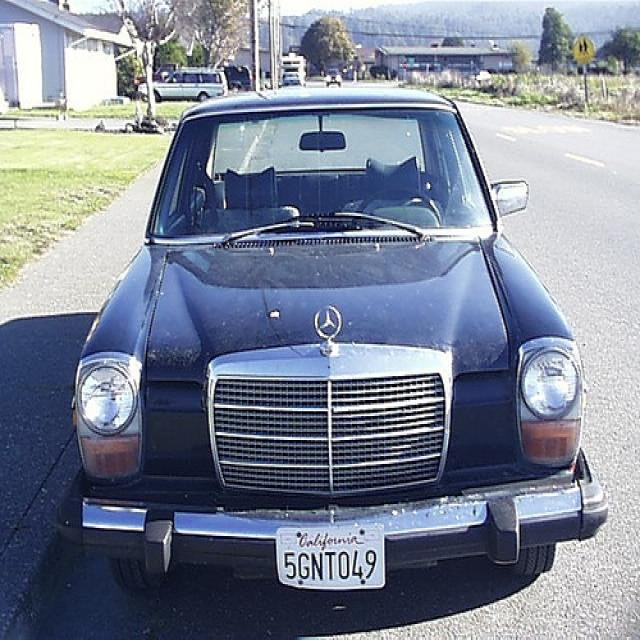car: (65, 86, 612, 592), (138, 61, 227, 101), (324, 67, 344, 88), (280, 67, 301, 85)
